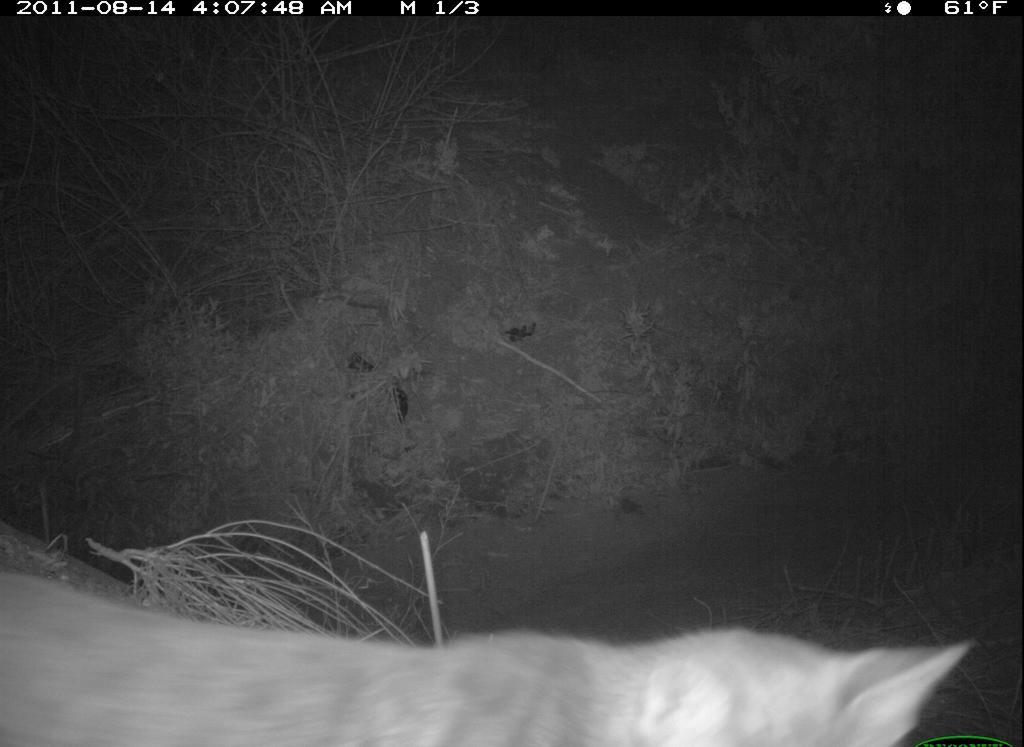cat: (2, 566, 976, 743)
